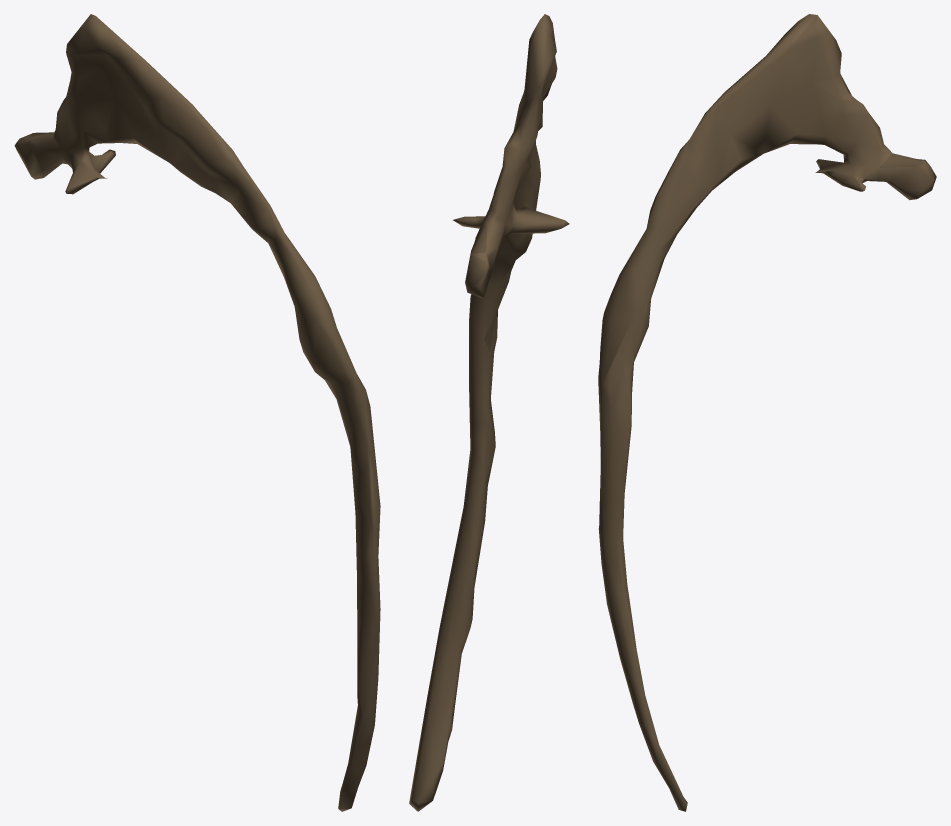
Rendered from Trex_CervicalRib_L.fbx.
The picture shows the model from 3 angles, left to right: view 1: azimuth 30°, elevation 25°; view 2: azimuth 150°, elevation 25°; view 3: azimuth 270°, elevation 25°; orthographic projection. The views are drawn at different scales.
Visible parts, largest first — view 1: Trex_CervicalRib_L; view 2: Trex_CervicalRib_L; view 3: Trex_CervicalRib_L.
Boxes of the visible parts, bbox=[...] form: Trex_CervicalRib_L: bbox=[14, 14, 380, 811]; Trex_CervicalRib_L: bbox=[409, 14, 569, 811]; Trex_CervicalRib_L: bbox=[598, 14, 936, 811].
Size of the model in its own units: 0.0392 by 0.1377 by 0.0588.
1 material, 1 textured.
